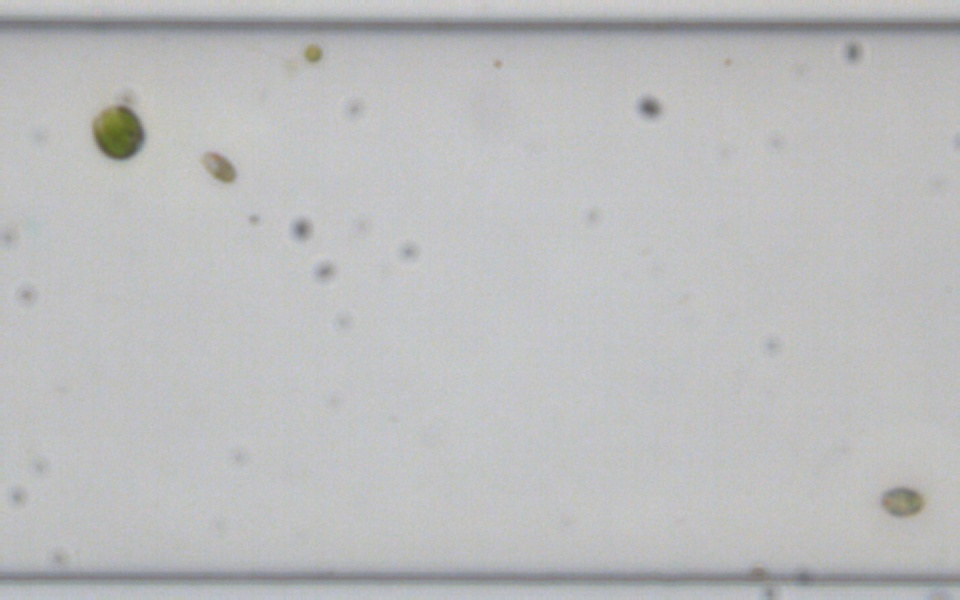Chlorella: (303, 41, 322, 62)
Dunaliella salina: (198, 147, 238, 185), (878, 485, 925, 517)
Platymonas: (88, 101, 146, 163)
